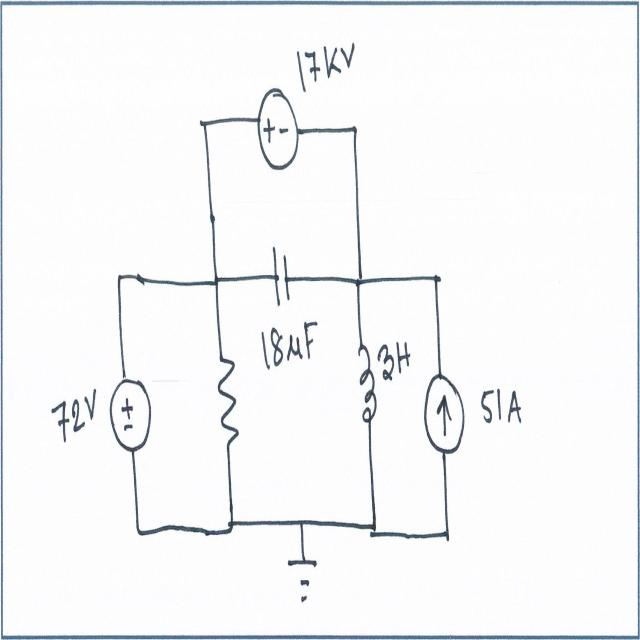capacitor: (270, 242, 294, 308)
current_source: (423, 371, 470, 455)
ground: (285, 541, 323, 613)
inductor: (354, 337, 378, 426)
resistor: (215, 350, 241, 445)
voltage_source: (257, 79, 299, 174), (108, 374, 154, 456)
